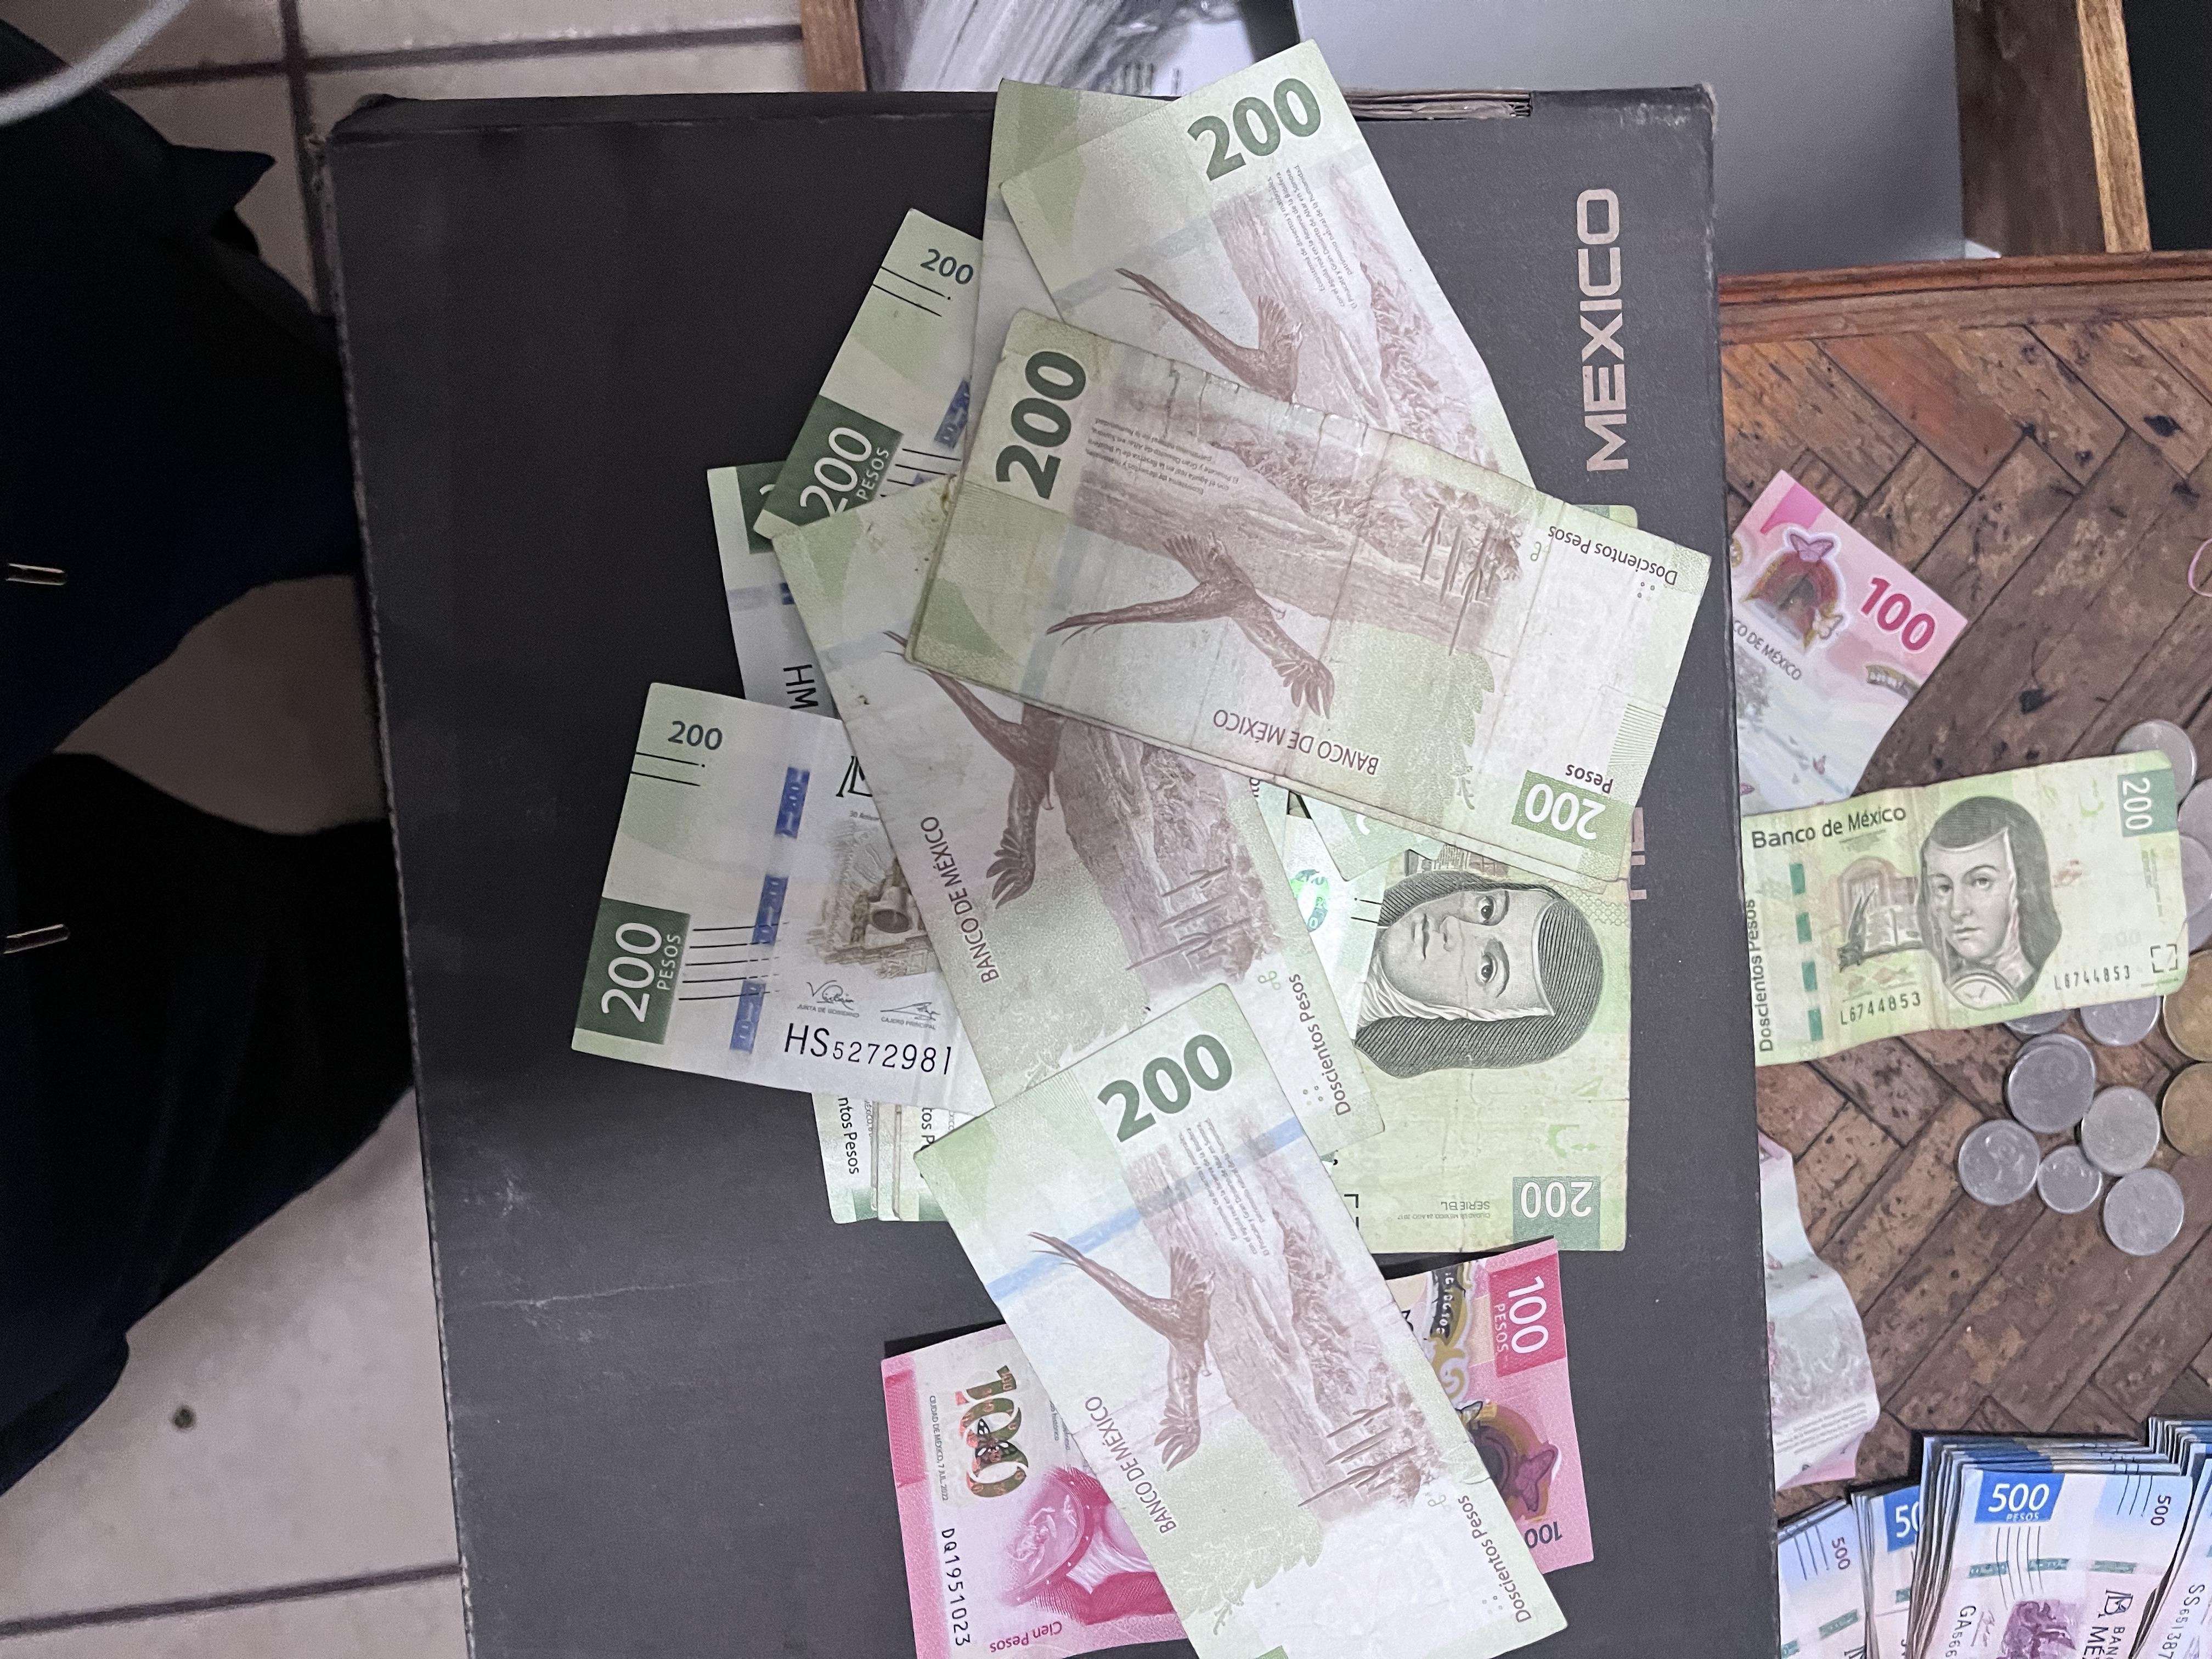100: (817, 1267, 1688, 1622), (1716, 446, 1966, 823)
200: (916, 988, 1608, 1659), (932, 291, 1689, 892), (972, 38, 1580, 516), (542, 643, 1071, 1134), (1284, 786, 1653, 1265), (719, 190, 1069, 648), (1721, 735, 2212, 1060)
500 nuevo: (1900, 1424, 2212, 1659)
